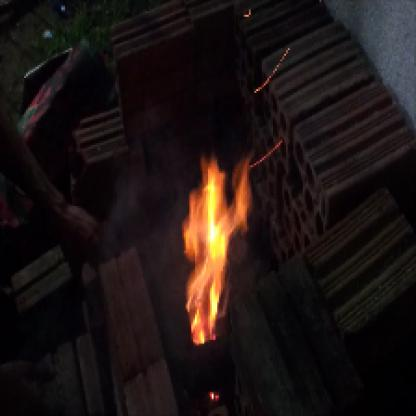Fire: (178, 147, 258, 345)
